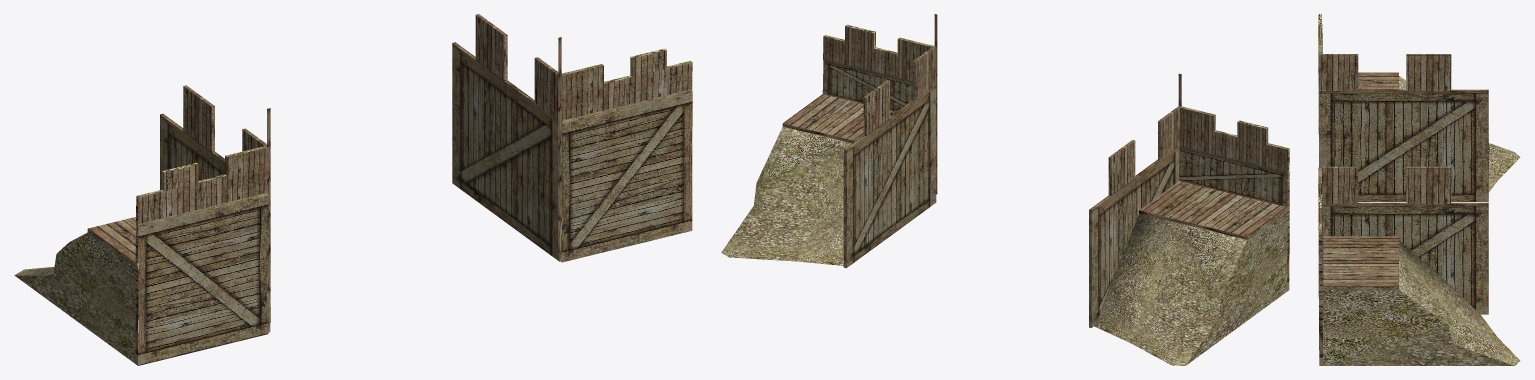
The model's file is rome_siege_gate.dae.
3 views of the same model, side by side, from view 1: azimuth 30°, elevation 25°; view 2: azimuth 150°, elevation 25°; view 3: azimuth 270°, elevation 25° (orthographic). The views are drawn at different scales.
Parts seen in each view (by area): view 1: Box01; view 2: Box01; view 3: Box01.
Boxes of the visible parts, <box> form: Box01: <box>14,14,692,365</box>; Box01: <box>721,14,1289,365</box>; Box01: <box>1318,14,1520,365</box>.
Bounding box in the file's own units: 22.48 × 8.98 × 8.76.
